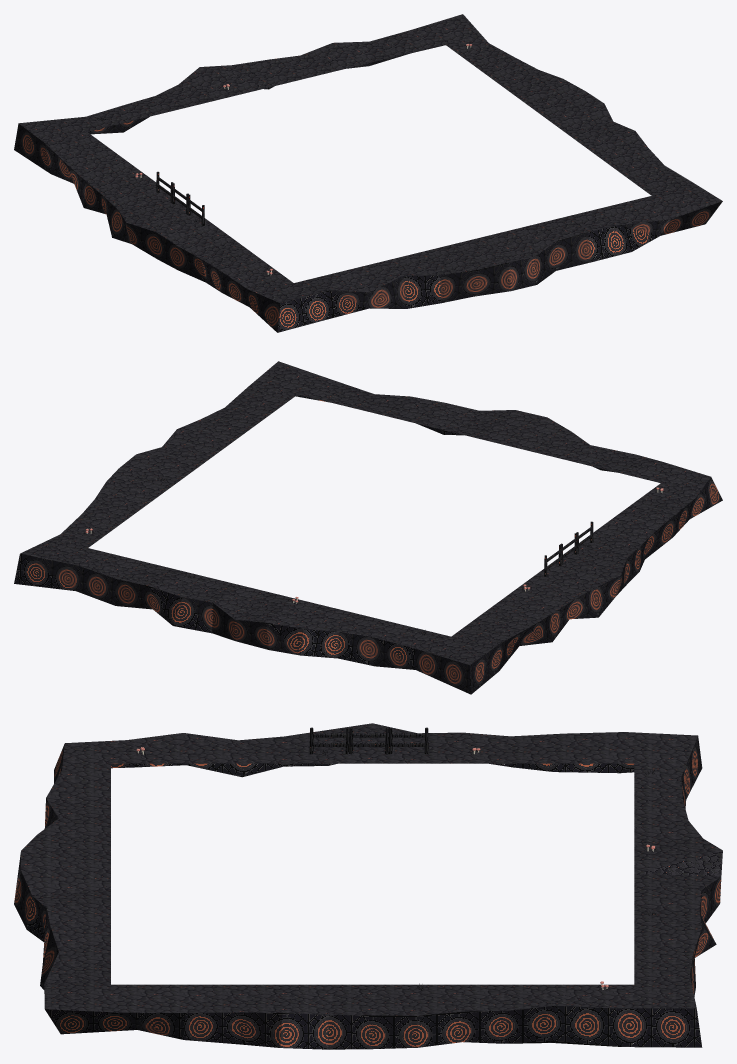
Rendered from entorno.glb.
3 views of the same model, one above another, from view 1: azimuth 30°, elevation 25°; view 2: azimuth 150°, elevation 25°; view 3: azimuth 270°, elevation 25° (orthographic). The views are drawn at different scales.
Visible parts, largest first — view 1: vulcao_entorno; view 2: vulcao_entorno; view 3: vulcao_entorno.
Boxes of the visible parts, box(x1,y1,x2,y2) form: vulcao_entorno: box(14, 14, 722, 332); vulcao_entorno: box(14, 361, 722, 694); vulcao_entorno: box(14, 723, 722, 1049).
Size of the model in its own units: 16.31 by 1.69 by 16.52.
Materials: 7 (5 with a texture image).
